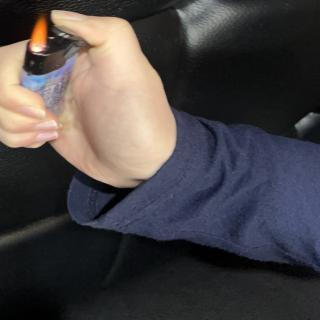fire: (31, 15, 49, 53)
